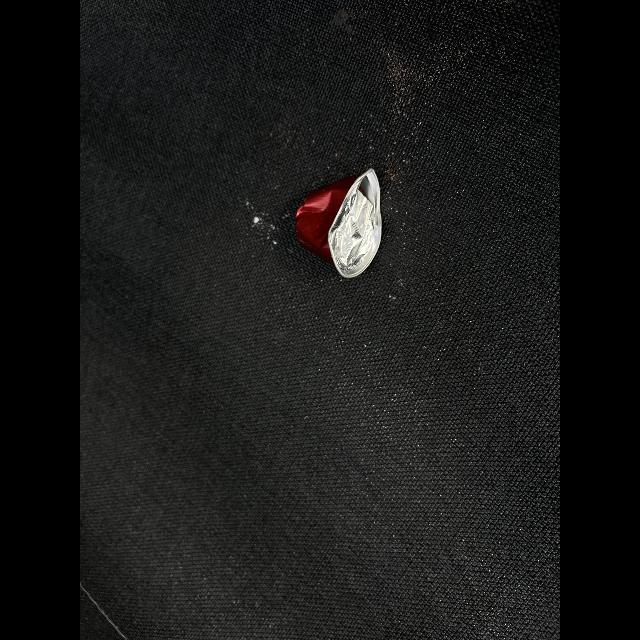damaged_capsule: (286, 160, 389, 290)
